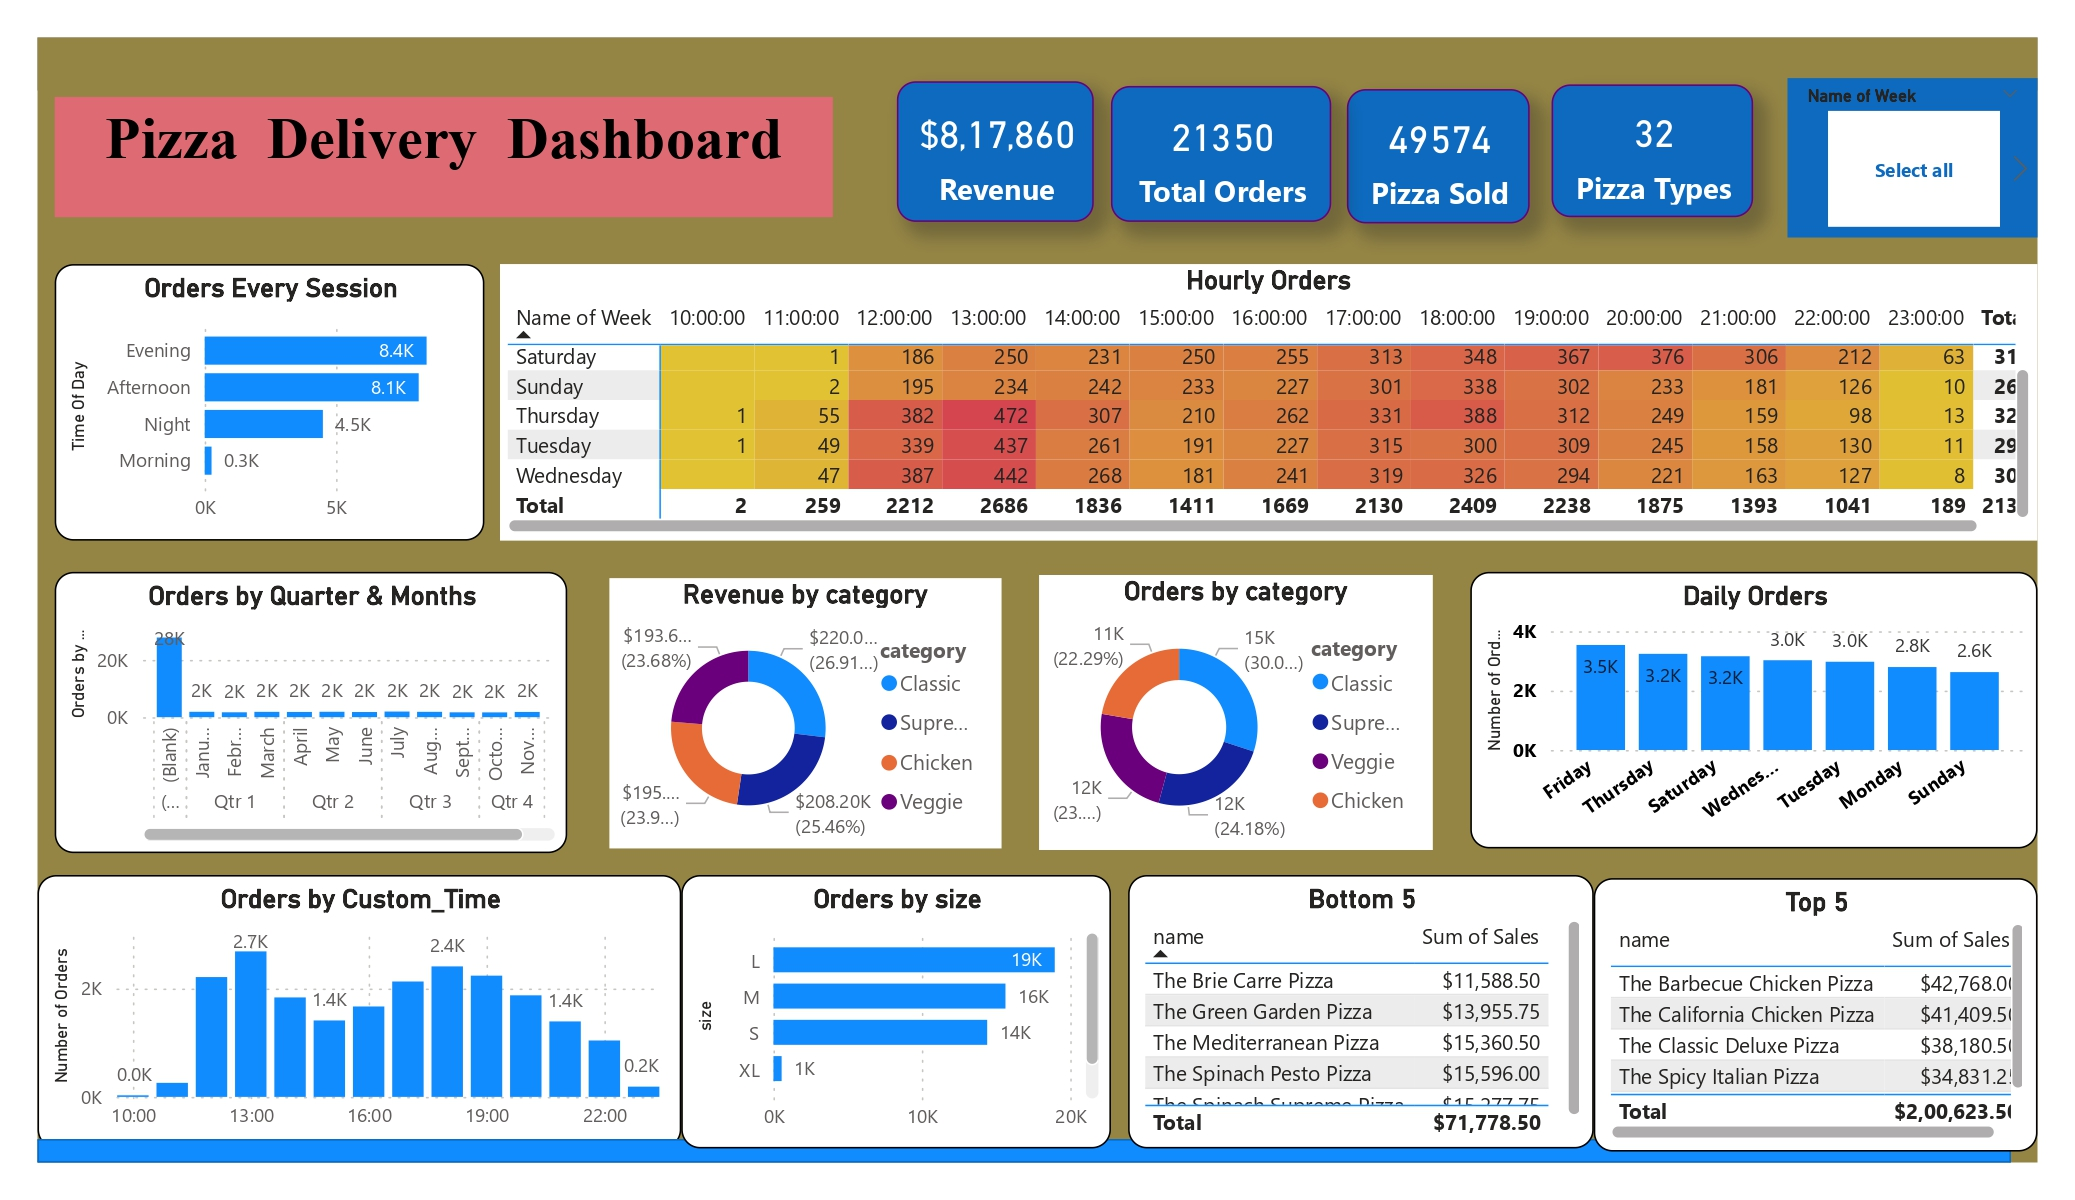

The dashboard page shown, as its layout file describes it:
{"tool":"powerbi","page":{"name":"Page 1","canvas":[1280,720],"ordinal":0},"visuals":[{"type":"card","fields":{"Values":["Sum(order_details.Sales)"]},"box":[549.9,28.3,126.1,89.3],"z":0},{"type":"card","fields":{"Values":["Sum(order_details.quantity)"]},"box":[837.6,32.6,117.6,86.5],"z":1000},{"type":"card","fields":{"Values":["order_details.Number of Orders"]},"box":[687.4,31.2,140.3,86.5],"z":2000},{"type":"donutChart","title":"Revenue by category","fields":{"Category":["pizza_types.category"],"Y":["Sum(order_details.Sales)"]},"box":[365.7,345.8,250.9,172.9],"z":3000},{"type":"columnChart","title":"Orders by Custom_Time","fields":{"Y":["order_details.Number of Orders"],"Category":["orders.Custom_Time"]},"box":[0,535.7,412.4,175.7],"z":4000},{"type":"pivotTable","title":"Hourly Orders","fields":{"Rows":["orders.Name of Week"],"Columns":["orders.Custom_Time"],"Values":["CountNonNull(orders.order_id)"]},"box":[296.2,144.6,983.6,177.2],"z":5000},{"type":"shape","box":[0,704.6,1263.2,15.1],"z":6000},{"type":"card","fields":{"Values":["Count(pizzas.pizza_type_id)"]},"box":[969.4,29.8,129,85],"z":8000},{"type":"barChart","title":"Orders by size","fields":{"Category":["pizzas.size"],"Y":["Sum(order_details.quantity)"]},"box":[412.4,535.7,275,175.7],"z":10000},{"type":"donutChart","title":"Orders by category","fields":{"Category":["pizza_types.category"],"Y":["Sum(order_details.quantity)"]},"box":[640.6,344.4,252.3,175.7],"z":11000},{"type":"tableEx","title":"Top 5","fields":{"Values":["pizza_types.name","Sum(order_details.Sales)"]},"box":[996.2,537.5,283.8,175],"z":12000},{"type":"tableEx","title":"Bottom 5","fields":{"Values":["pizza_types.name","Sum(order_details.Sales)"]},"box":[697.5,536.2,298.8,175],"z":13000},{"type":"columnChart","title":"Orders by Quarter & Months","fields":{"Category":["orders.date.Variation.Date Hierarchy.Quarter","orders.date.Variation.Date Hierarchy.Month"],"Y":["Sum(order_details.quantity)"]},"box":[11.3,341.6,327.4,180],"z":14000},{"type":"columnChart","title":"Daily Orders","fields":{"Y":["order_details.Number of Orders"],"Category":["orders.Name of Week"]},"box":[917,341.6,362.8,177.2],"z":15000},{"type":"clusteredBarChart","title":"Orders Every Session","fields":{"Category":["orders.Time Of Day"],"Y":["order_details.Number of Orders"]},"box":[11.3,144.6,275,177.2],"z":16000},{"type":"slicer","fields":{"Values":["orders.Name of Week"]},"box":[1119.7,25.5,160.2,102],"z":17000},{"type":"textbox","box":[11.3,38.3,497.5,76.5],"z":18000}]}

Visuals, with their boxes in screenshot pixels (x1, y1, x2, y2):
card - Sum(order_details.Sales): x1=897 y1=87 x2=1091 y2=225
card - Sum(order_details.quantity): x1=1340 y1=93 x2=1522 y2=227
card - order_details.Number of Orders: x1=1109 y1=91 x2=1325 y2=225
"Revenue by category" donutChart: x1=613 y1=576 x2=999 y2=843
"Orders by Custom_Time" columnChart: x1=49 y1=869 x2=685 y2=1140
"Hourly Orders" pivotTable: x1=505 y1=266 x2=2022 y2=539
shape: x1=49 y1=1130 x2=1996 y2=1153
card - Count(pizzas.pizza_type_id): x1=1543 y1=89 x2=1742 y2=220
"Orders by size" barChart: x1=685 y1=869 x2=1109 y2=1140
"Orders by category" donutChart: x1=1036 y1=574 x2=1425 y2=845
"Top 5" tableEx: x1=1585 y1=872 x2=2022 y2=1142
"Bottom 5" tableEx: x1=1124 y1=870 x2=1585 y2=1140
"Orders by Quarter & Months" columnChart: x1=66 y1=570 x2=571 y2=848
"Daily Orders" columnChart: x1=1463 y1=570 x2=2022 y2=843
"Orders Every Session" clusteredBarChart: x1=66 y1=266 x2=490 y2=539
slicer - orders.Name of Week: x1=1775 y1=83 x2=2022 y2=240
textbox: x1=66 y1=102 x2=833 y2=220
